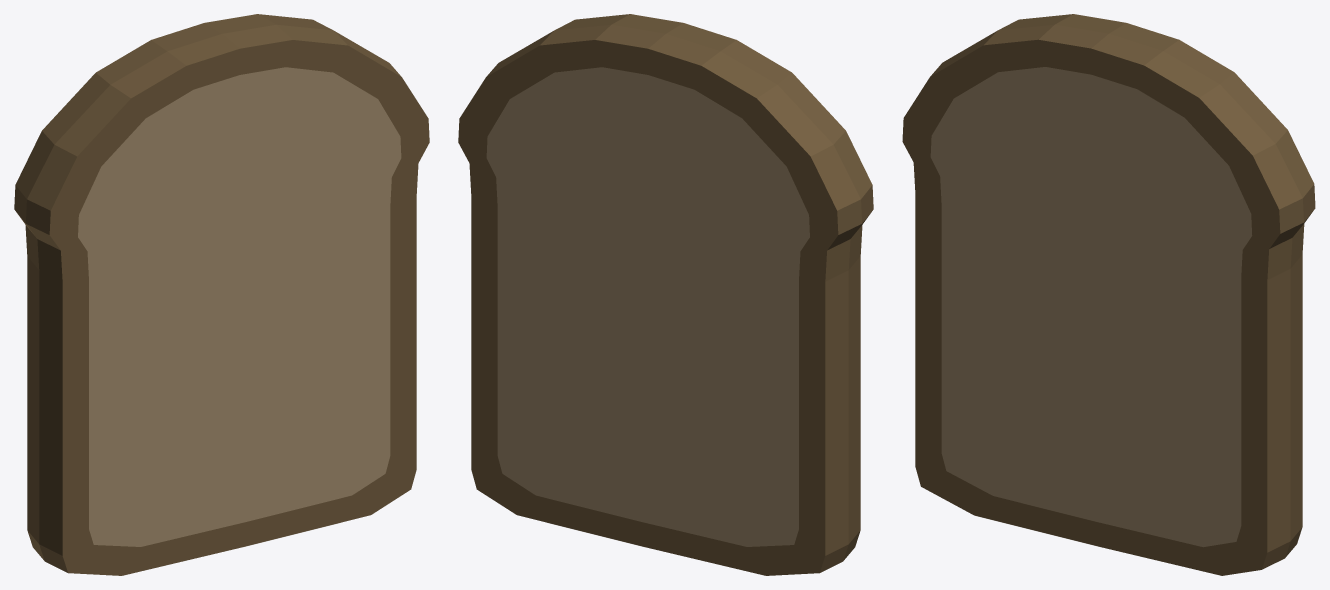
File: Bread_Slice.gltf
The picture shows the model from 3 angles, left to right: view 1: azimuth 30°, elevation 25°; view 2: azimuth 150°, elevation 25°; view 3: azimuth 330°, elevation 25°; orthographic projection.
Parts seen in each view (by area): view 1: Bread_Slice; view 2: Bread_Slice; view 3: Bread_Slice.
Boxes of the visible parts, <box> form: Bread_Slice: <box>14,14,429,575</box>; Bread_Slice: <box>458,14,873,575</box>; Bread_Slice: <box>902,14,1315,575</box>.
Bounding box in the file's own units: 0.6933 × 0.847 × 0.1083.
